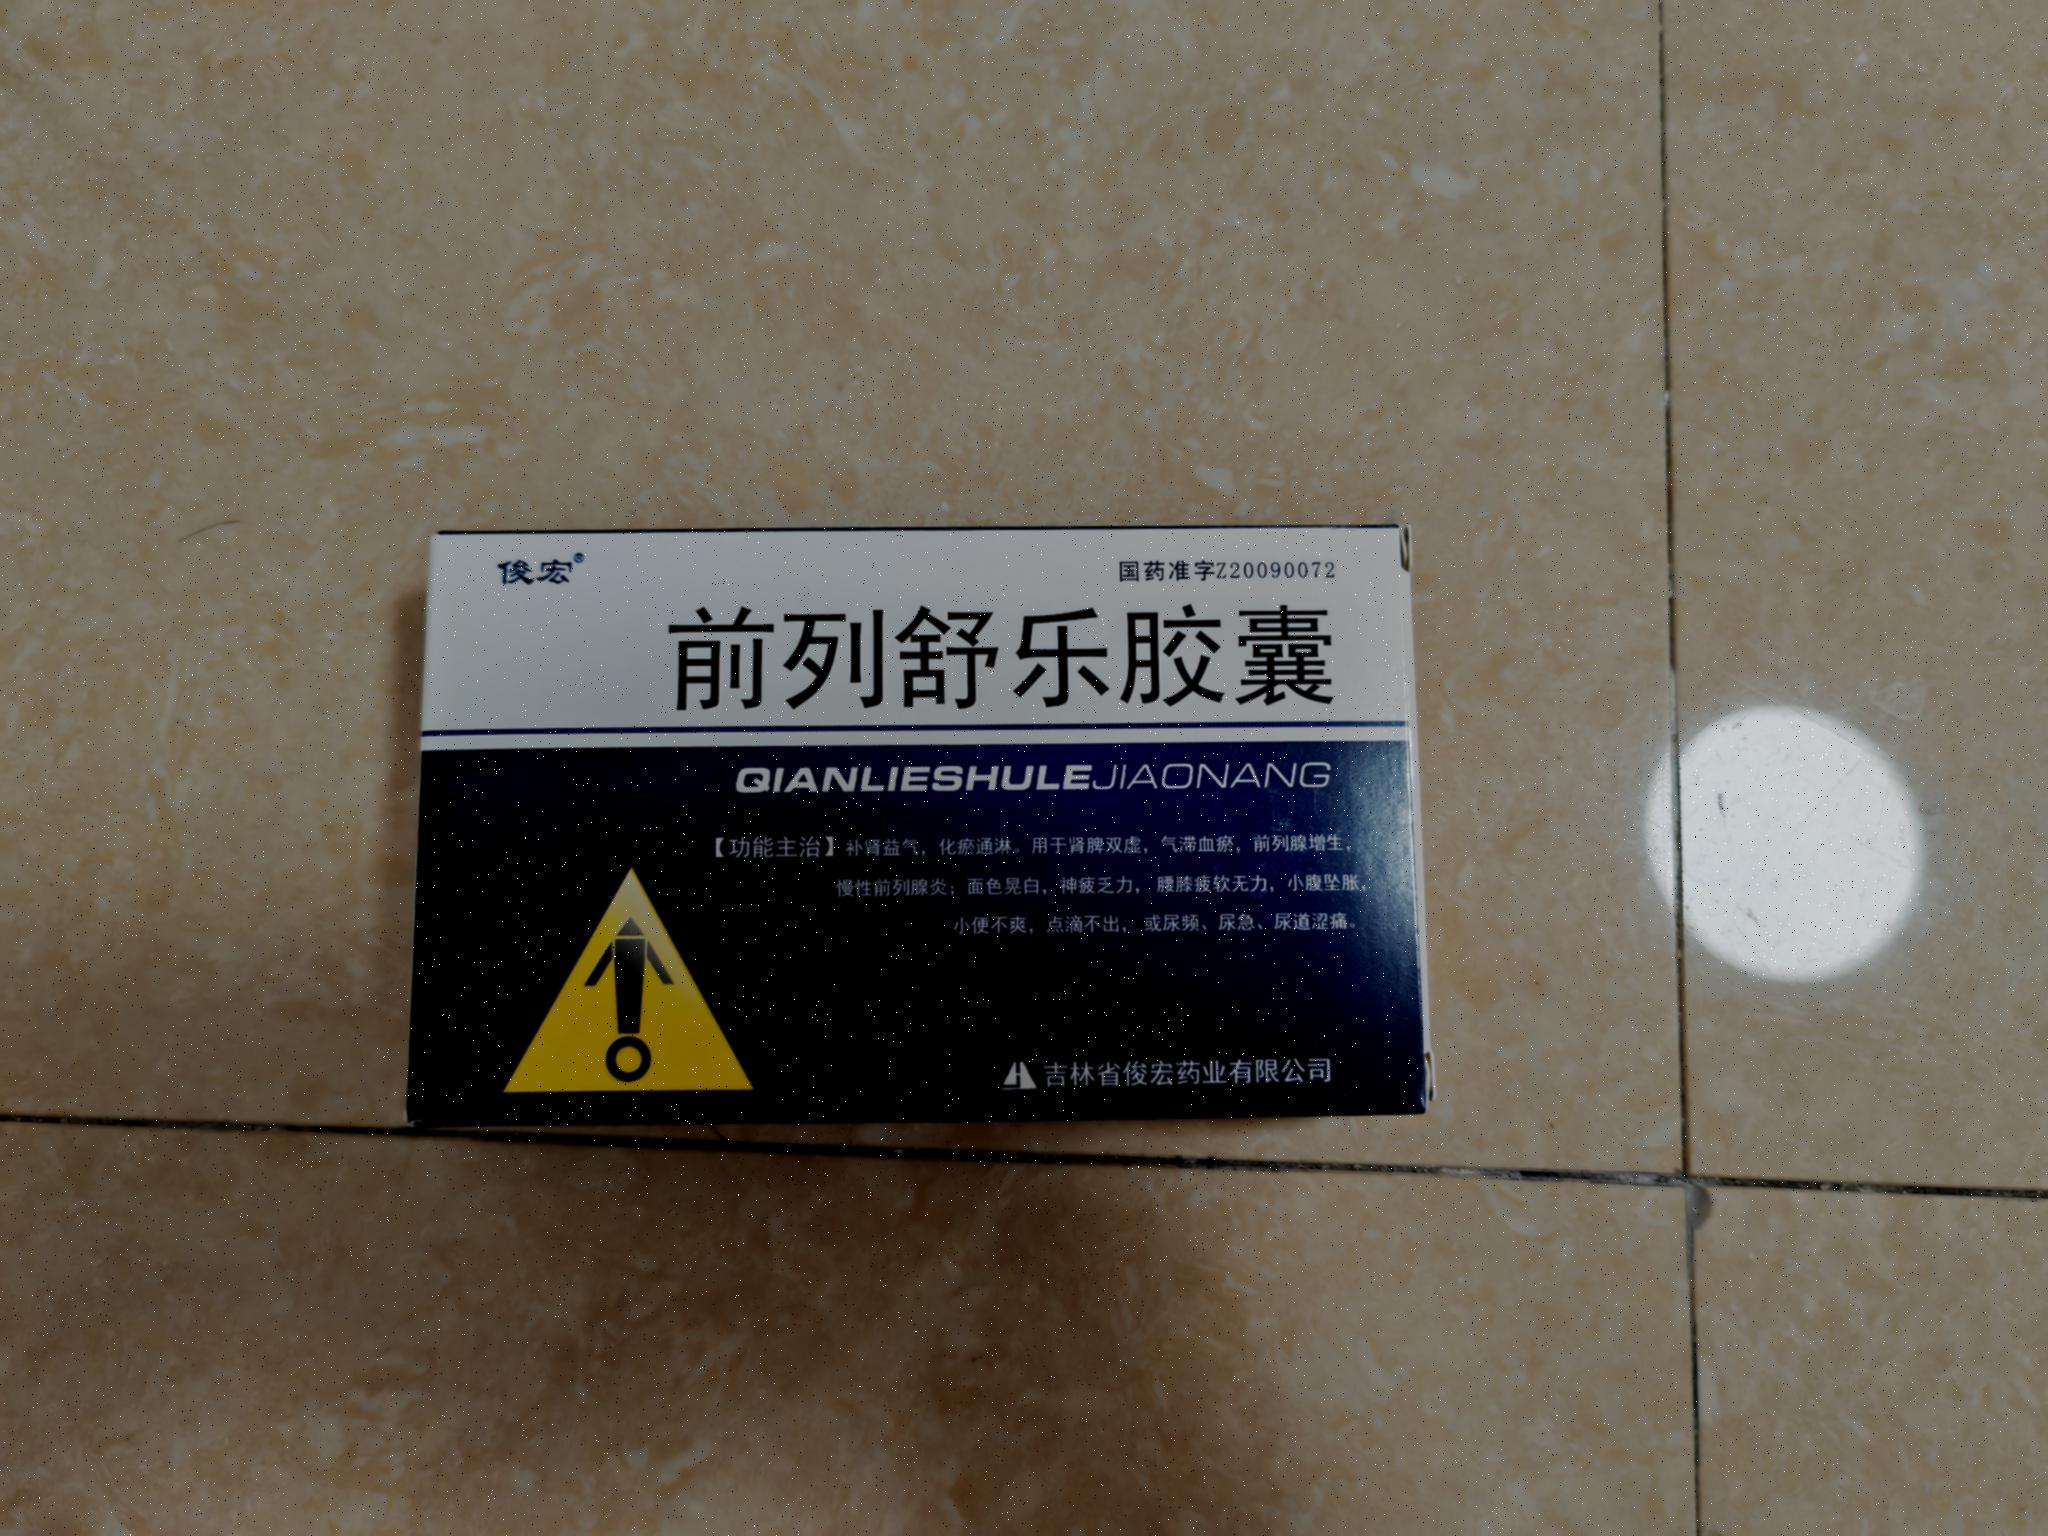Medicine2: (382, 497, 1459, 1147)
